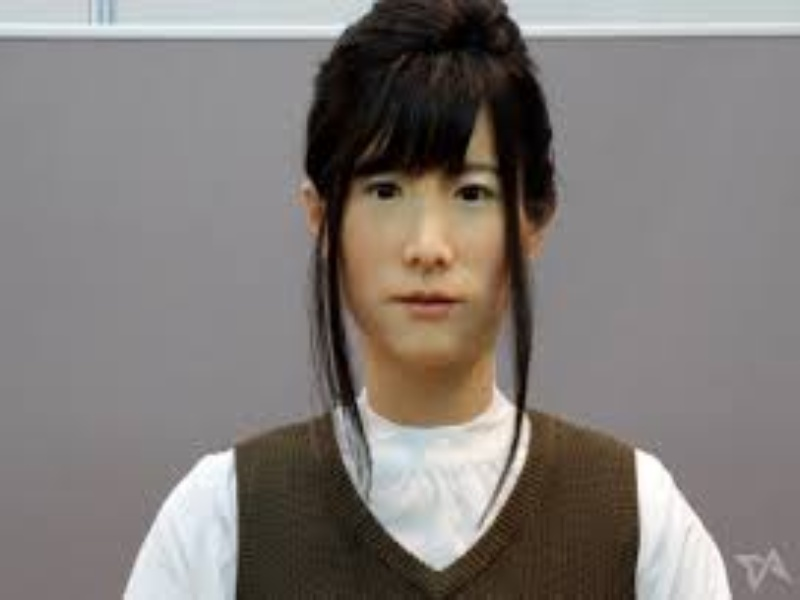face: (351, 136, 503, 329)
